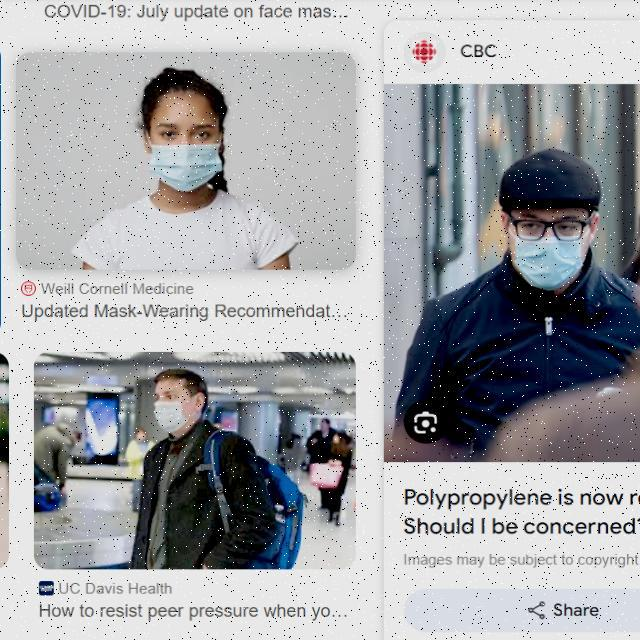face_mask: (140, 90, 230, 198), (500, 194, 598, 291), (153, 378, 205, 434)
